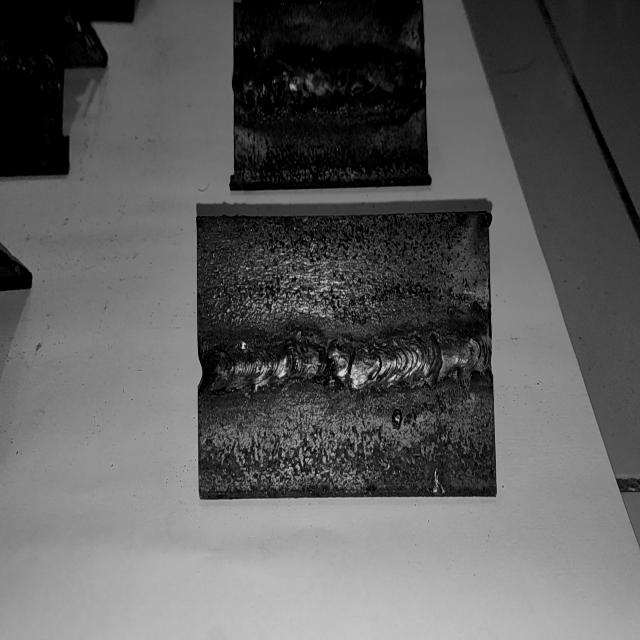Bad Weld: (205, 332, 489, 392), (235, 61, 425, 112)
Defect: (238, 54, 300, 118), (311, 329, 357, 397)
Good Weld: (0, 51, 63, 96)
